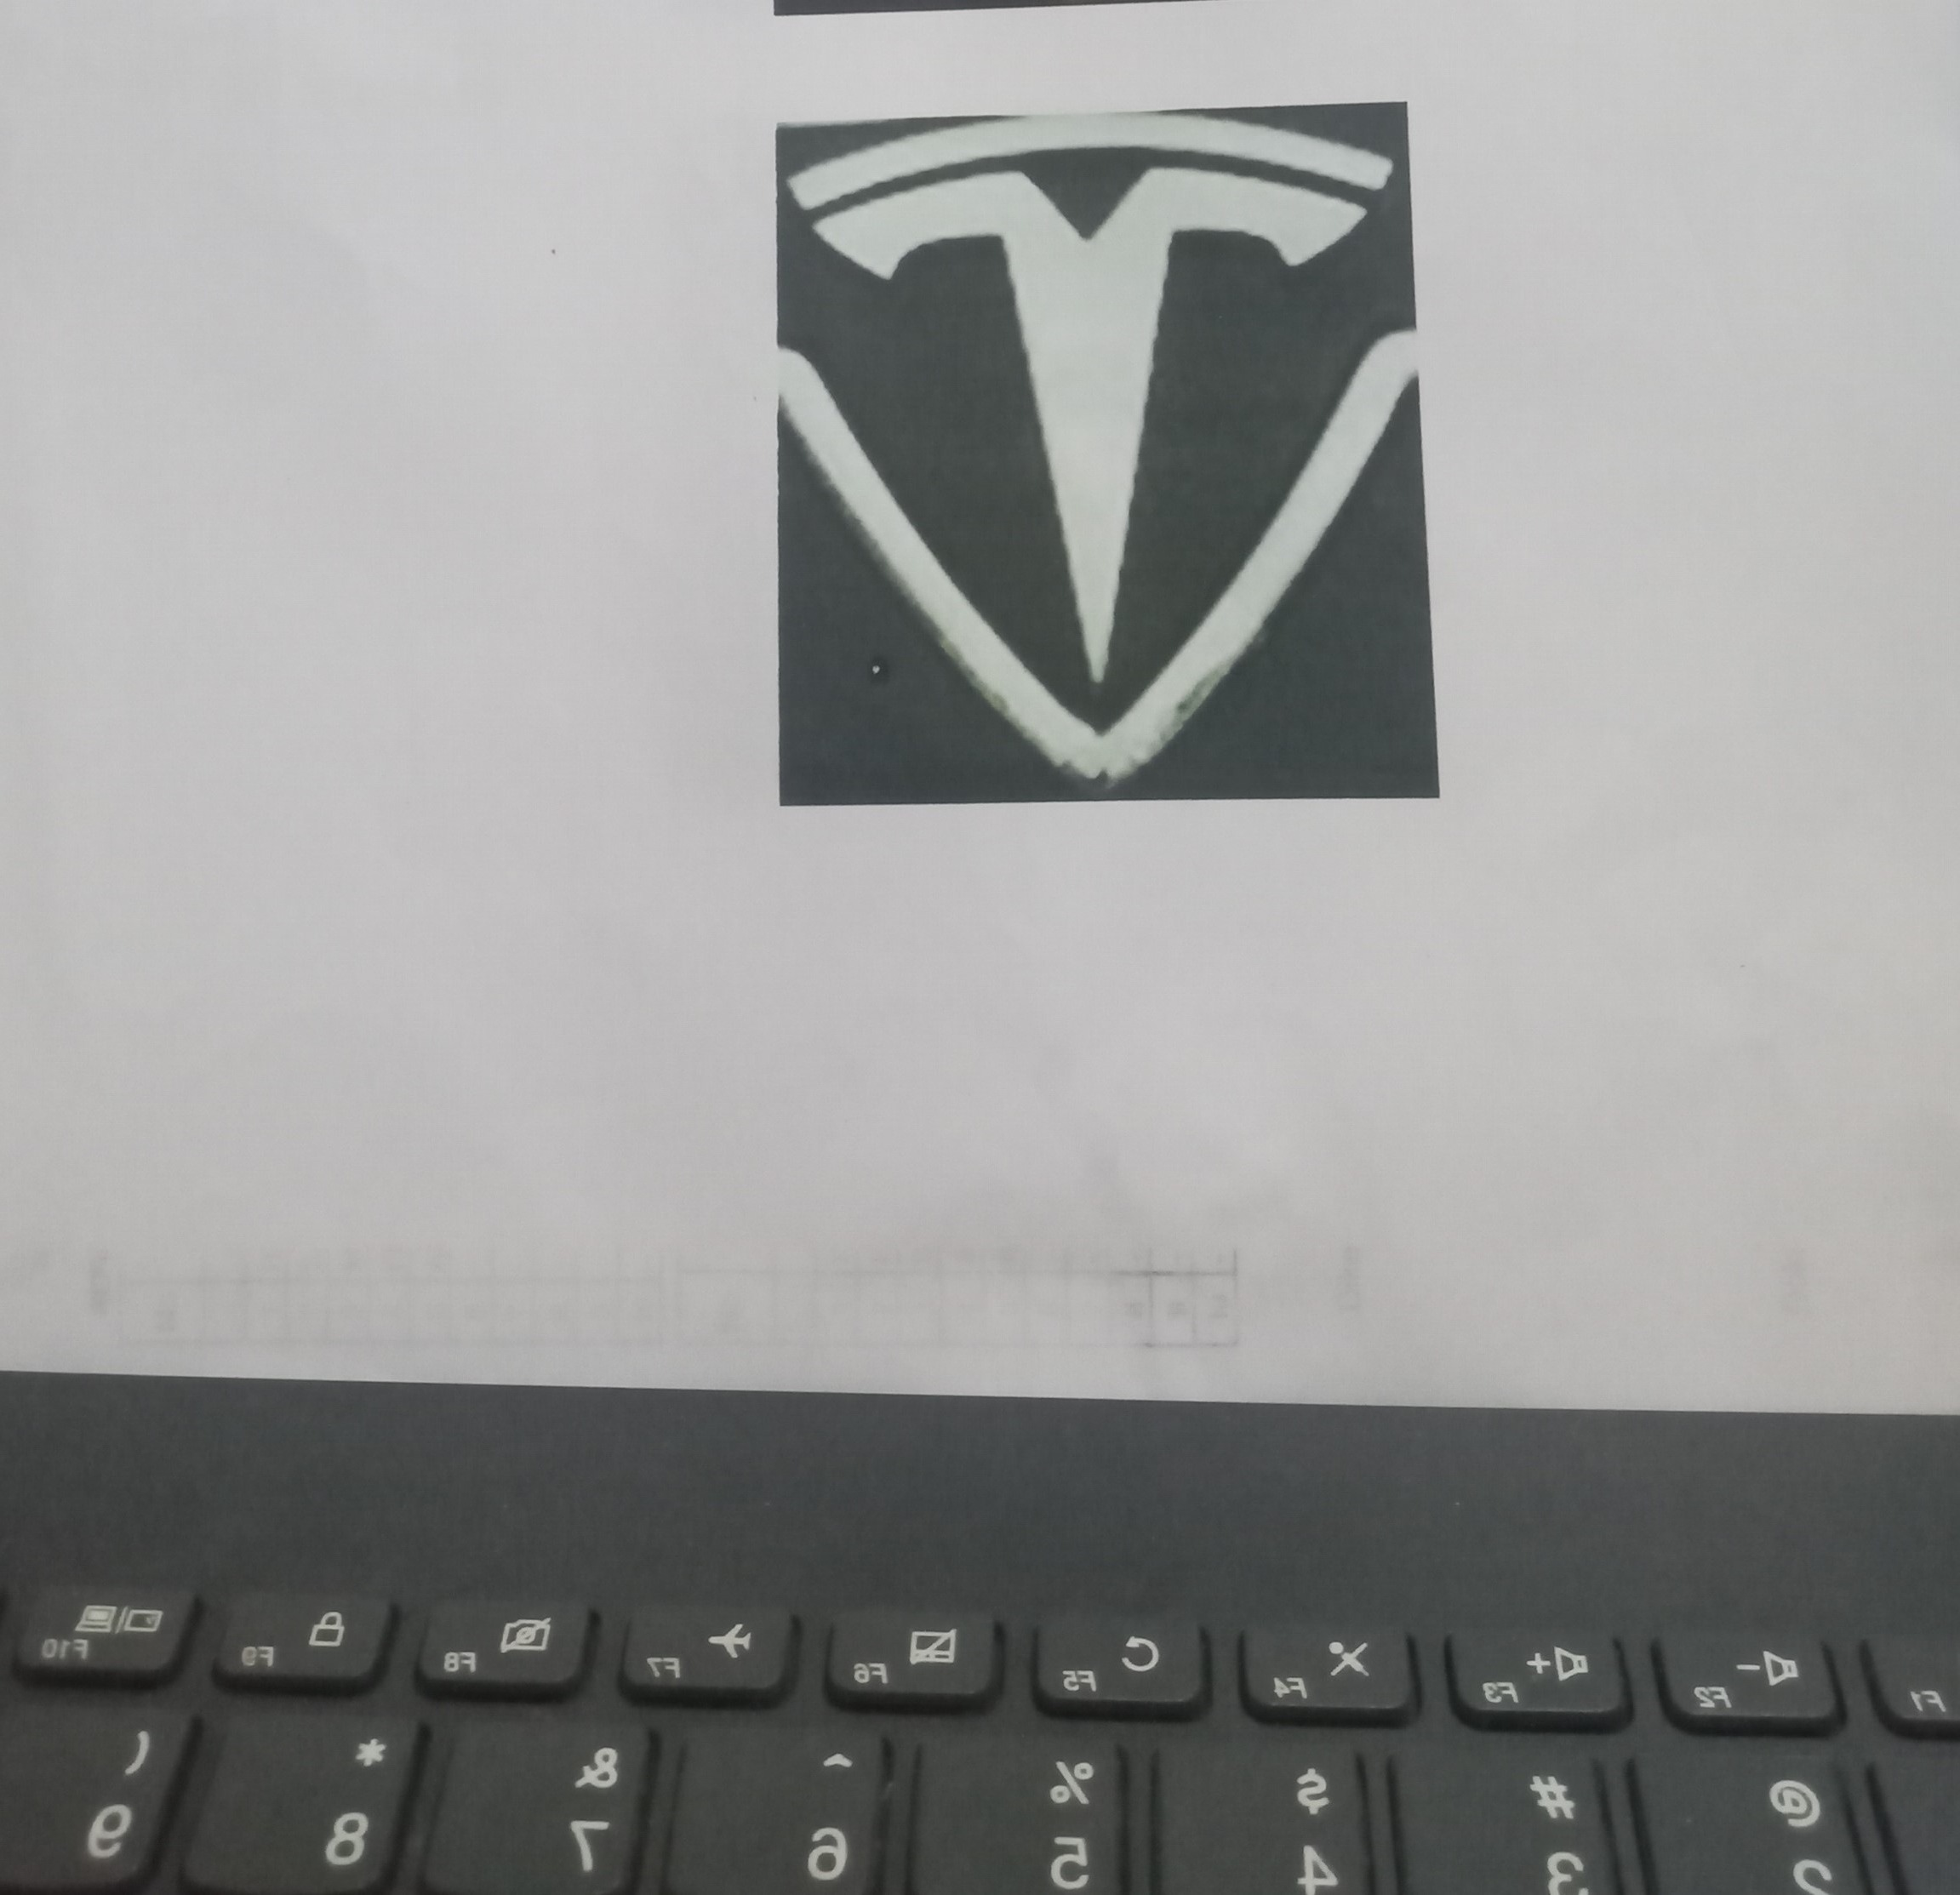Tesla: (763, 105, 1430, 791)
